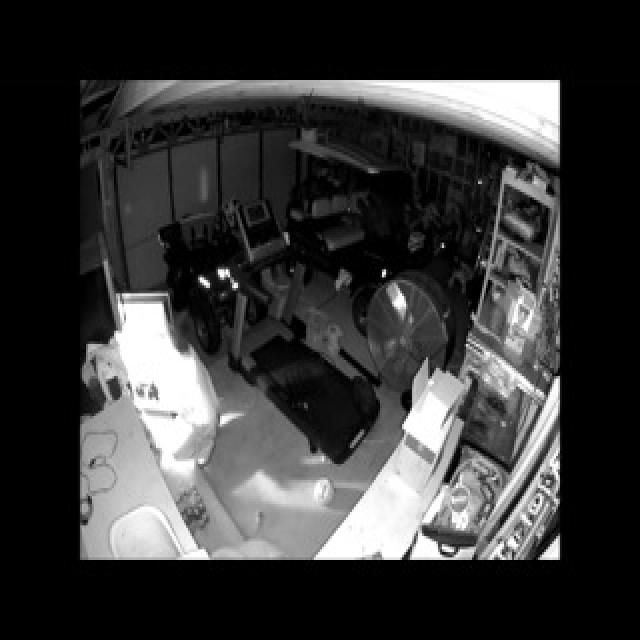thief: (137, 311, 231, 489)
